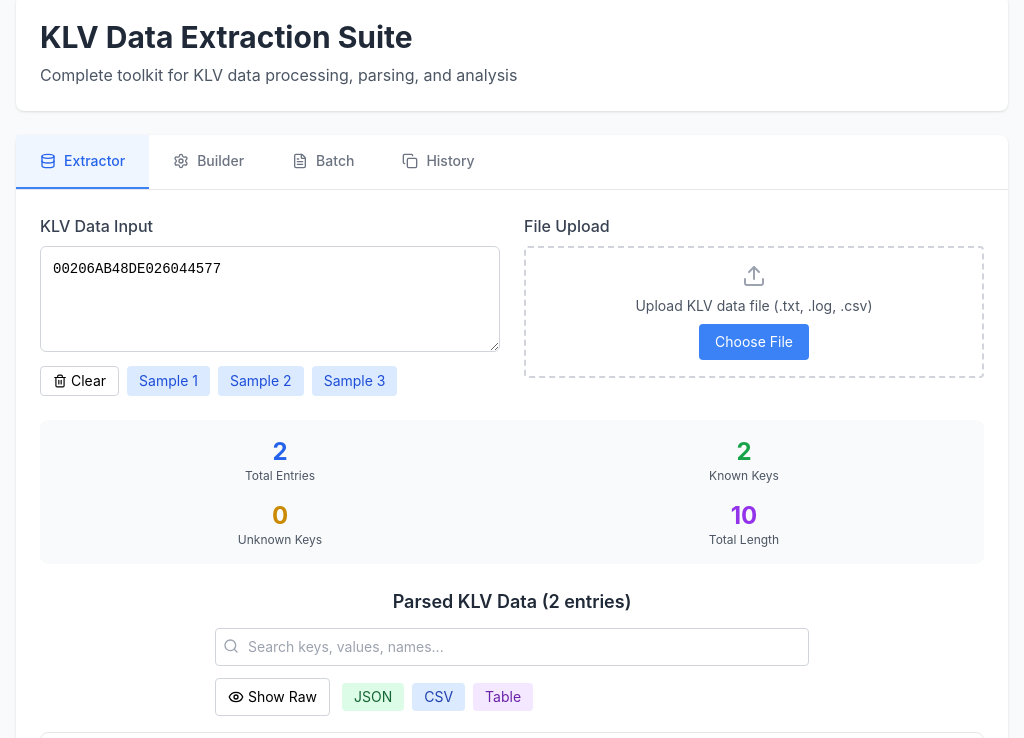
Test: App Integration Tests › Search and Filter Functionality › should show no results message for invalid search
Type "NONEXISTENT" into the field with placeholder "Search keys, values, names...".
click(512, 647); type("NONEXISTENT")  # box [215,628,809,666]
(page scrolled)
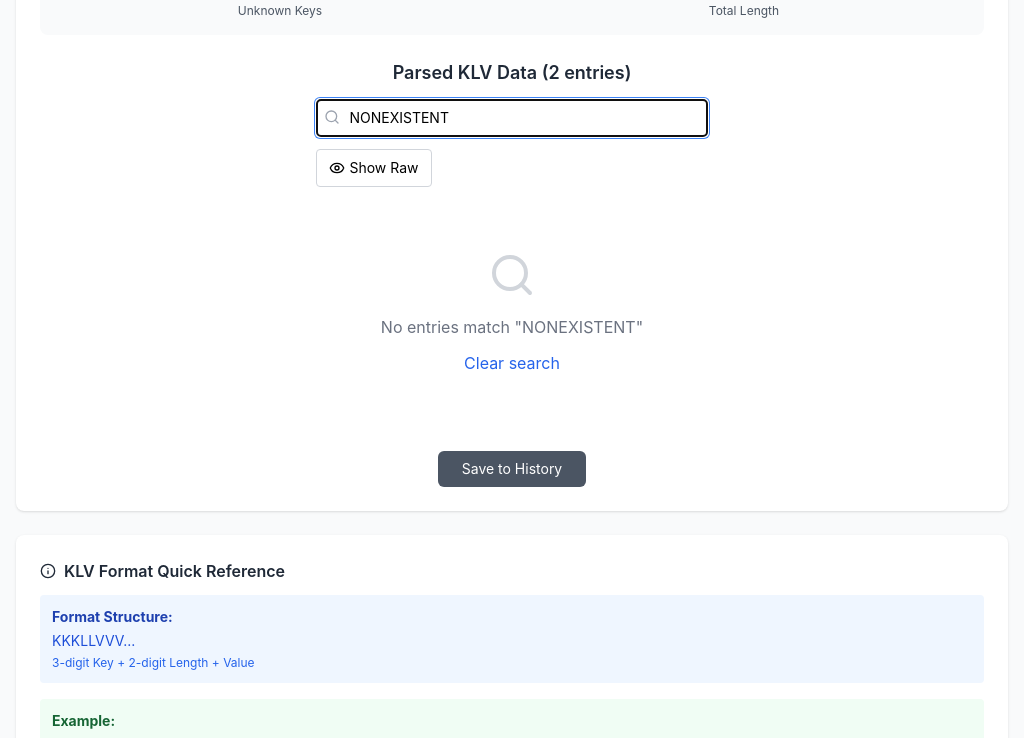
Check: the text "No entries match \"NONEXISTENT\"" is shown, box [381,317,643,337]
Check: the button "Clear search" is shown, box [452,347,572,379]
